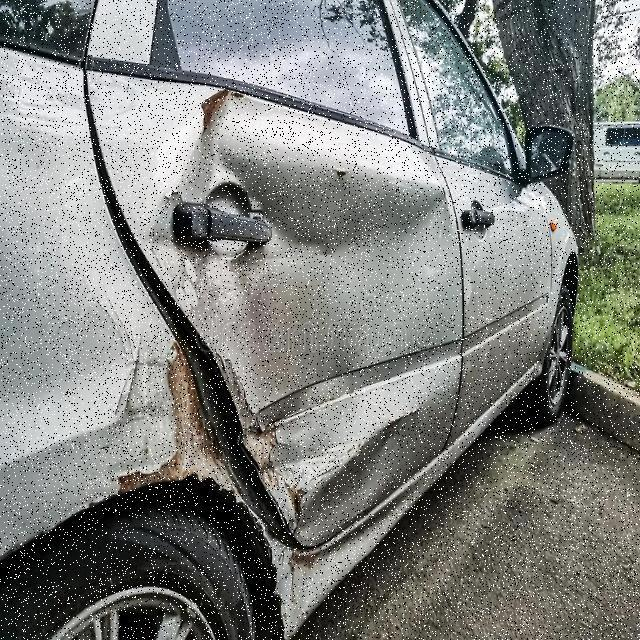car damage: (171, 78, 460, 477), (0, 338, 192, 639), (266, 517, 432, 639)
